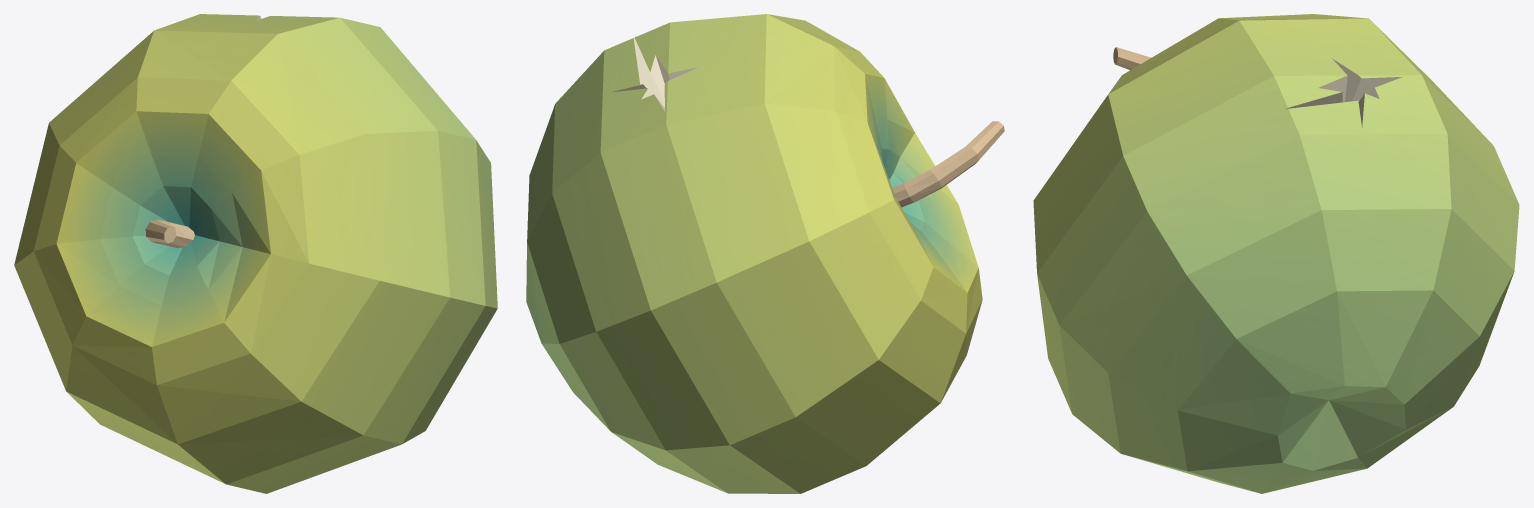
The model's file is SM_Punctured_Apple02.fbx.
3 views of the same model, side by side, from view 1: azimuth 30°, elevation 25°; view 2: azimuth 150°, elevation 25°; view 3: azimuth 270°, elevation 25° (orthographic). The views are drawn at different scales.
Visible parts, largest first — view 1: SM_Punctured_Apple02; view 2: SM_Punctured_Apple02; view 3: SM_Punctured_Apple02.
Boxes of the visible parts, x1,y1,x2,y2 form: SM_Punctured_Apple02: [14, 14, 497, 493]; SM_Punctured_Apple02: [526, 14, 1004, 493]; SM_Punctured_Apple02: [1033, 14, 1519, 493].
Bounding box in the file's own units: 0.0783 × 0.0796 × 0.0817.
